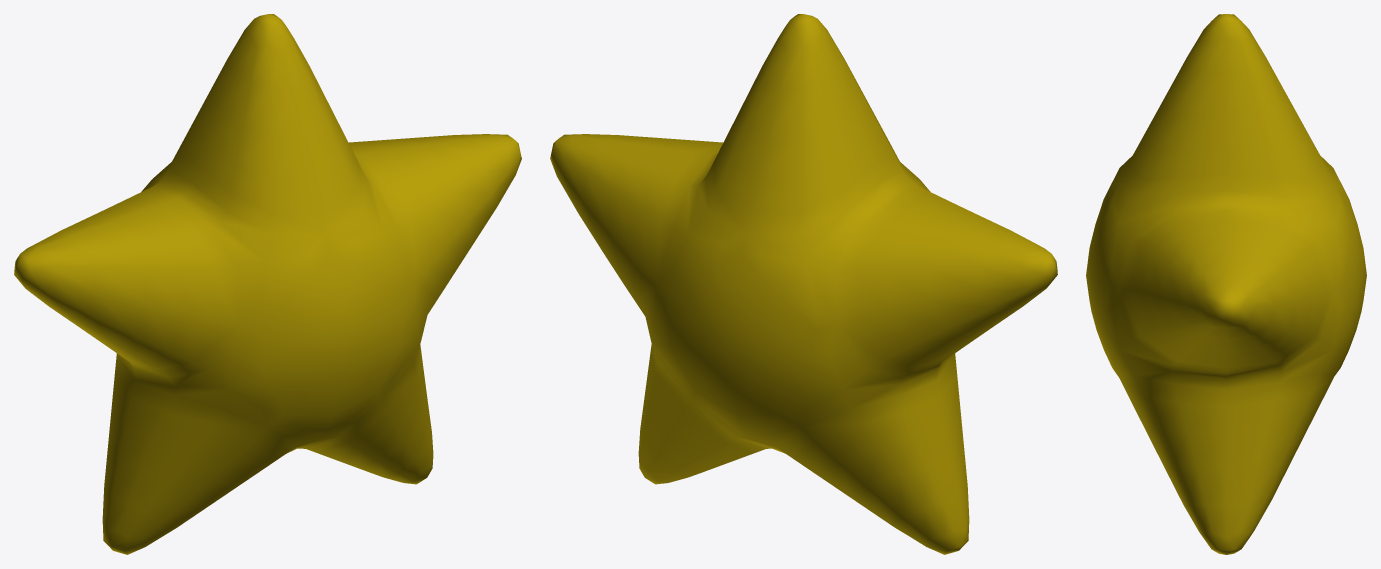
File: star.fbx
The picture shows the model from 3 angles, left to right: view 1: azimuth 30°, elevation 25°; view 2: azimuth 150°, elevation 25°; view 3: azimuth 270°, elevation 25°; orthographic projection. The views are drawn at different scales.
Visible parts, largest first — view 1: pSphere32; view 2: pSphere32; view 3: pSphere32.
Boxes of the visible parts, bbox=[...] form: pSphere32: bbox=[14, 14, 521, 554]; pSphere32: bbox=[550, 14, 1057, 554]; pSphere32: bbox=[1086, 14, 1366, 554].
Bounding box in the file's own units: 3.4 × 3.26 × 1.75.
